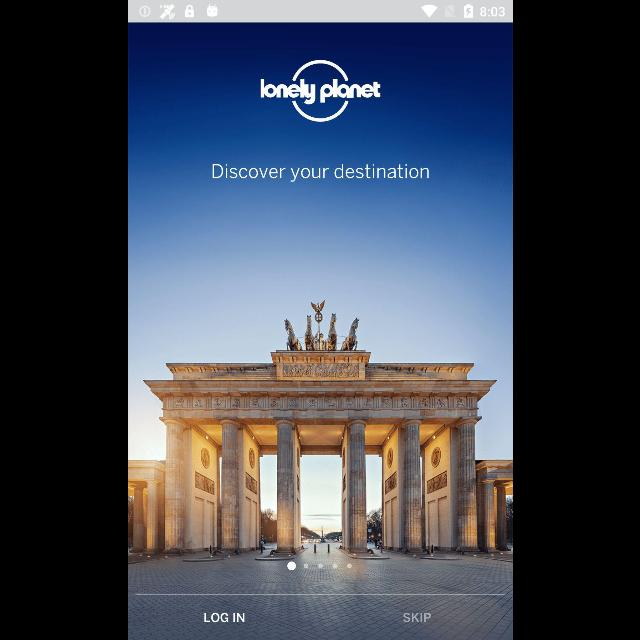backgroundimage: (128, 22, 512, 640)
image: (260, 60, 380, 122)
pageindicator: (286, 561, 352, 571)
text: (211, 164, 429, 182), (203, 611, 245, 623), (403, 612, 431, 624)
uppertaskbar: (128, 1, 512, 23)
